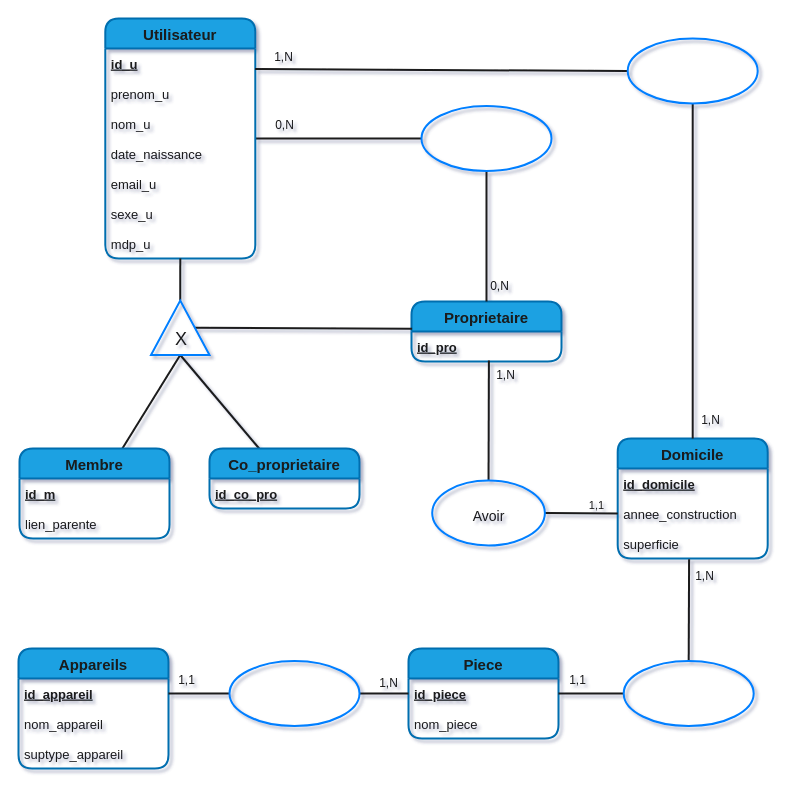
This 792x792 diagram has some shape labels left out. The shapes that lost their labels are listed below. From the top down, each one's centre as x and y in pixels, then its label:
At pixel 692 70: "Habiter".
At pixel 486 138: "Inviter".
At pixel 294 693: "Se Trouve".
At pixel 688 693: "Contenir".
